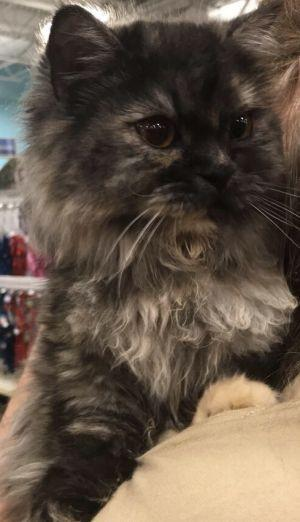persian: (1, 1, 300, 285)
